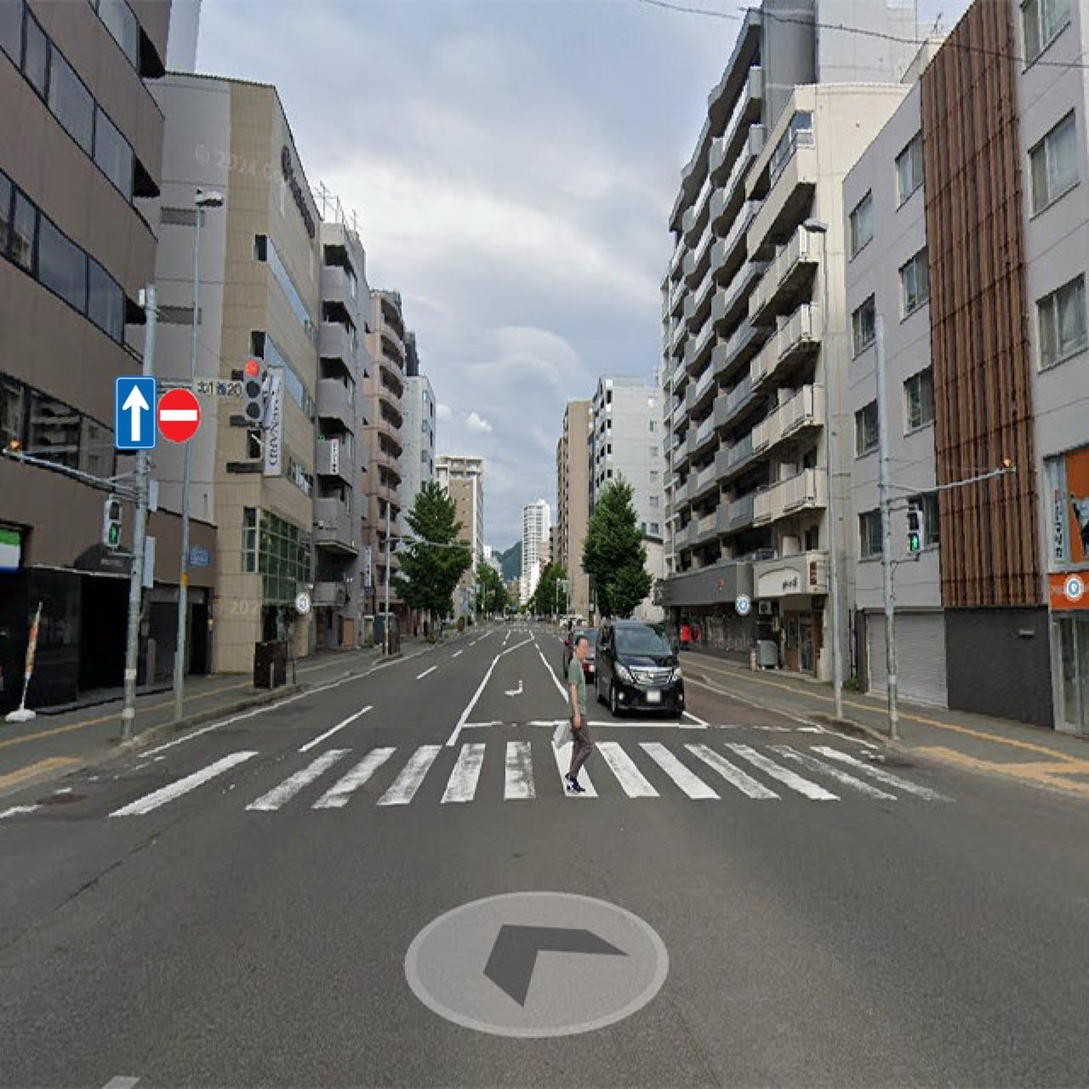barrier: (153, 381, 204, 444)
